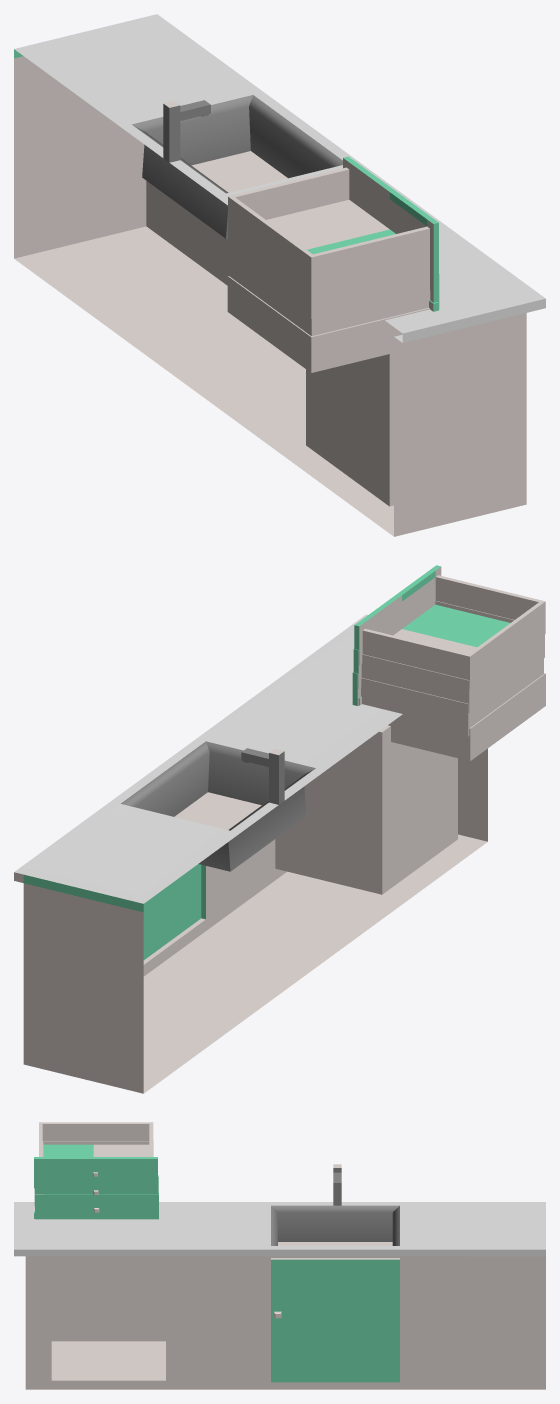
Rendered from KitchenBench.fbx.
3 views of the same model, one above another, from view 1: azimuth 30°, elevation 25°; view 2: azimuth 150°, elevation 25°; view 3: azimuth 270°, elevation 25° (orthographic). The views are drawn at different scales.
Visible parts, largest first — view 1: Kitchen_Counter, TopDrawer, BottomDrawer, SecondDrawer, ThridDrawer; view 2: Kitchen_Counter, TopDrawer, SecondDrawer, ThridDrawer, BottomDrawer; view 3: Kitchen_Counter, TopDrawer, ThridDrawer, SecondDrawer.
Boxes of the visible parts, x1,y1,x2,y2 form: Kitchen_Counter: (14, 14, 545, 536); TopDrawer: (228, 156, 438, 293); BottomDrawer: (227, 276, 438, 372); SecondDrawer: (228, 232, 438, 318); ThridDrawer: (228, 258, 439, 336); Kitchen_Counter: (14, 614, 487, 1093); TopDrawer: (354, 565, 545, 688); SecondDrawer: (353, 601, 544, 712); ThridDrawer: (352, 658, 543, 736); BottomDrawer: (358, 673, 545, 761); Kitchen_Counter: (14, 1164, 545, 1389); TopDrawer: (34, 1122, 157, 1188); ThridDrawer: (35, 1193, 158, 1219); SecondDrawer: (34, 1140, 158, 1205).
Bounding box in the file's own units: 328 × 426 × 1010.
